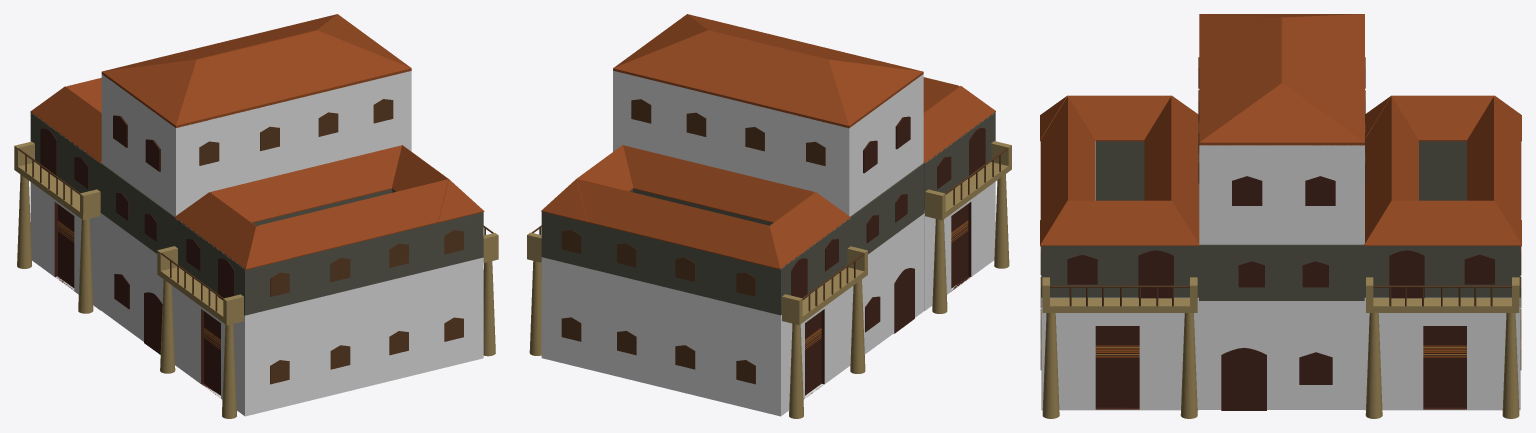
The model's file is Roman8.fbx.
3 views of the same model, side by side, from view 1: azimuth 30°, elevation 25°; view 2: azimuth 150°, elevation 25°; view 3: azimuth 270°, elevation 25° (orthographic). The views are drawn at different scales.
Visible parts, largest first — view 1: Cube, Cube.047, Cube.048, Cube.046, Cube.001, Cube.002, Cube.045, Cube.004, Cube.041, Cube.003, Cube.022, Cube.023 (+12 smaller); view 2: Cube.045, Cube.047, Cube.048, Cube.046, Cube.044, Cube.043, Cube, Cube.041, Cube.004, Cube.042, Cube.022, Cube.023 (+12 smaller); view 3: Cube.046, Cube.048, Cube, Cube.045, Cube.047, Cube.003, Cube.042, Cube.001, Cube.002, Cube.044, Cube.043, Cube.004 (+17 smaller).
Boxes of the visible parts, x1,y1,x2,y2 form: Cube: [174, 189, 483, 416]; Cube.047: [101, 71, 411, 216]; Cube.048: [101, 14, 411, 127]; Cube.046: [100, 163, 174, 350]; Cube.001: [257, 179, 448, 258]; Cube.002: [211, 145, 401, 222]; Cube.045: [30, 112, 100, 310]; Cube.004: [174, 192, 291, 269]; Cube.041: [30, 86, 101, 163]; Cube.003: [392, 145, 484, 222]; Cube.022: [157, 267, 243, 325]; Cube.023: [14, 162, 100, 220]; Cube.045: [541, 189, 850, 416]; Cube.047: [613, 70, 923, 216]; Cube.048: [613, 14, 923, 128]; Cube.046: [850, 163, 924, 354]; Cube.044: [577, 179, 768, 258]; Cube.043: [623, 145, 814, 222]; Cube: [924, 112, 995, 310]; Cube.041: [734, 192, 850, 269]; Cube.004: [923, 86, 995, 163]; Cube.042: [541, 145, 633, 222]; Cube.022: [925, 162, 1011, 220]; Cube.023: [782, 267, 867, 324]; Cube.046: [1199, 184, 1364, 409]; Cube.048: [1199, 14, 1364, 145]; Cube: [1041, 141, 1198, 410]; Cube.045: [1364, 141, 1520, 410]; Cube.047: [1199, 145, 1364, 244]; Cube.003: [1040, 200, 1199, 246]; Cube.042: [1364, 200, 1521, 246]; Cube.001: [1040, 97, 1095, 219]; Cube.002: [1144, 97, 1198, 219]; Cube.044: [1467, 97, 1521, 219]; Cube.043: [1365, 97, 1418, 219]; Cube.004: [1040, 95, 1198, 141].
Bounding box in the file's own units: 1030 × 956 × 1414.
